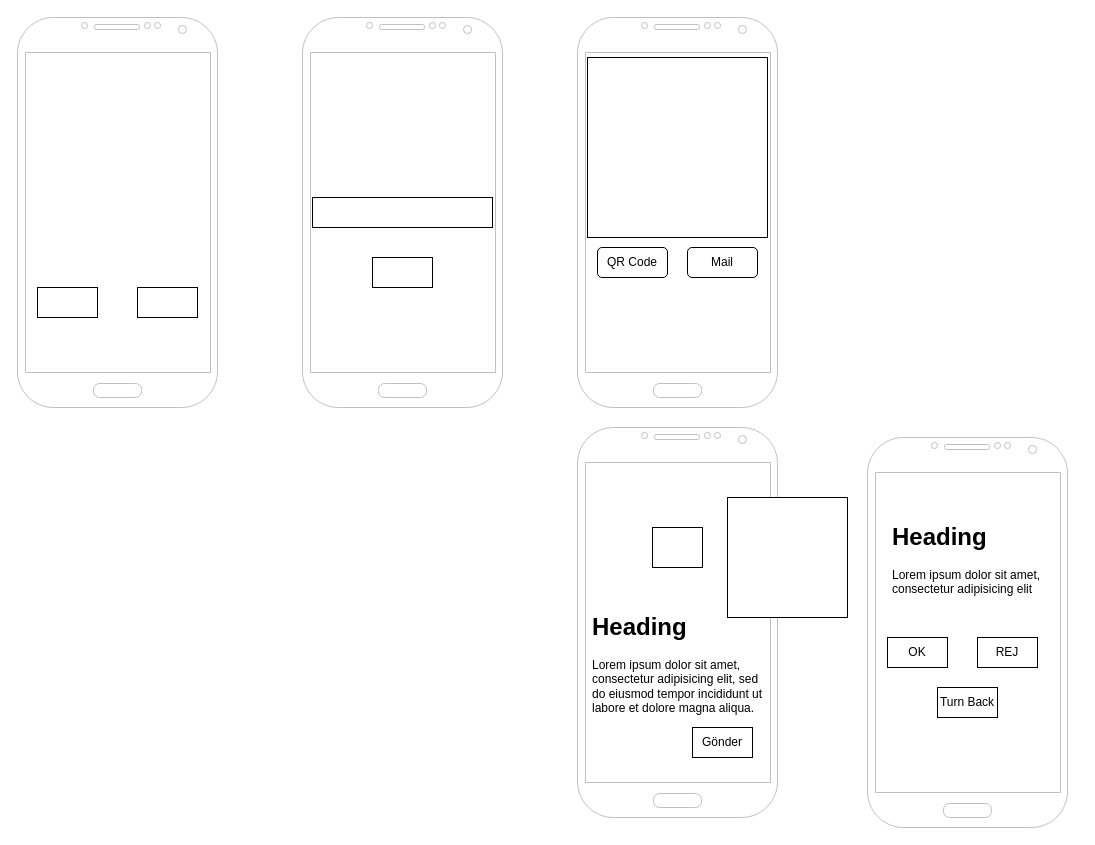
The diagram is 1095 pixels wide and 845 high, and some of its shapes have lost their labels. The shapes that lost their labels are listed below. From the top down, each one's centre as x and y in pixels, then its label:
the point at 402,212: UserName
the point at 677,547: QrCode
